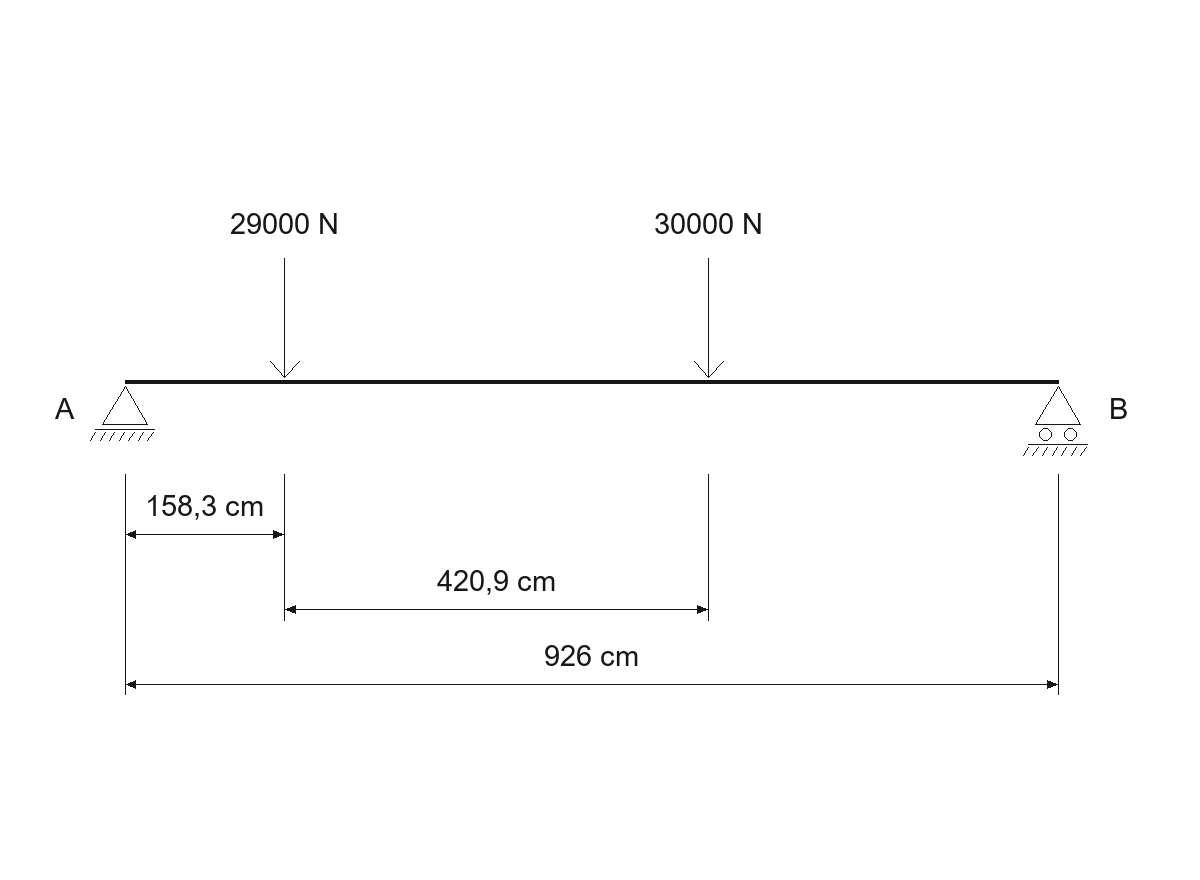pin_support: (90, 386, 155, 441)
point_load: (270, 258, 300, 378), (694, 258, 724, 378)
roller_support: (1023, 386, 1088, 456)
